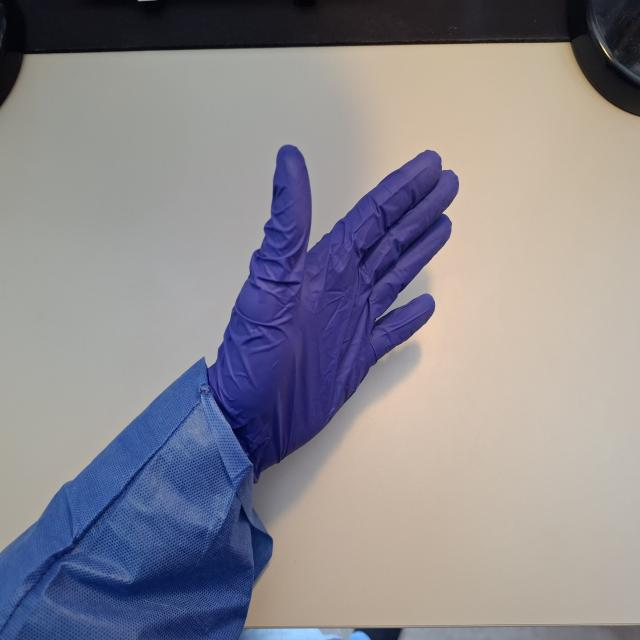glove_on: (190, 140, 462, 488)
